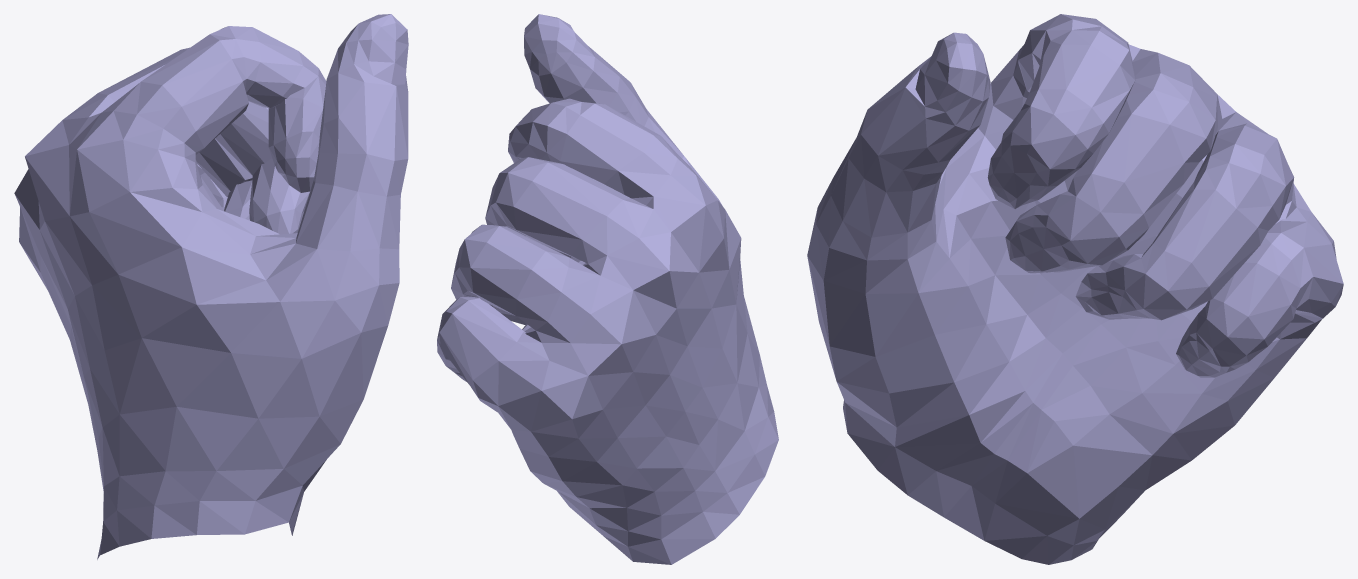
Rendered from frame_0025_source_000025_hand.glb.
3 views of the same model, side by side, from view 1: azimuth 30°, elevation 25°; view 2: azimuth 150°, elevation 25°; view 3: azimuth 270°, elevation 25° (orthographic). The views are drawn at different scales.
Parts seen in each view (by area): view 1: world; view 2: world; view 3: world.
Part boxes in pixels (x1,y1,x2,y2): world: (14, 14, 408, 559); world: (437, 14, 778, 564); world: (807, 14, 1343, 564).
Size of the model in its own units: 0.0656 by 0.1219 by 0.0992.
